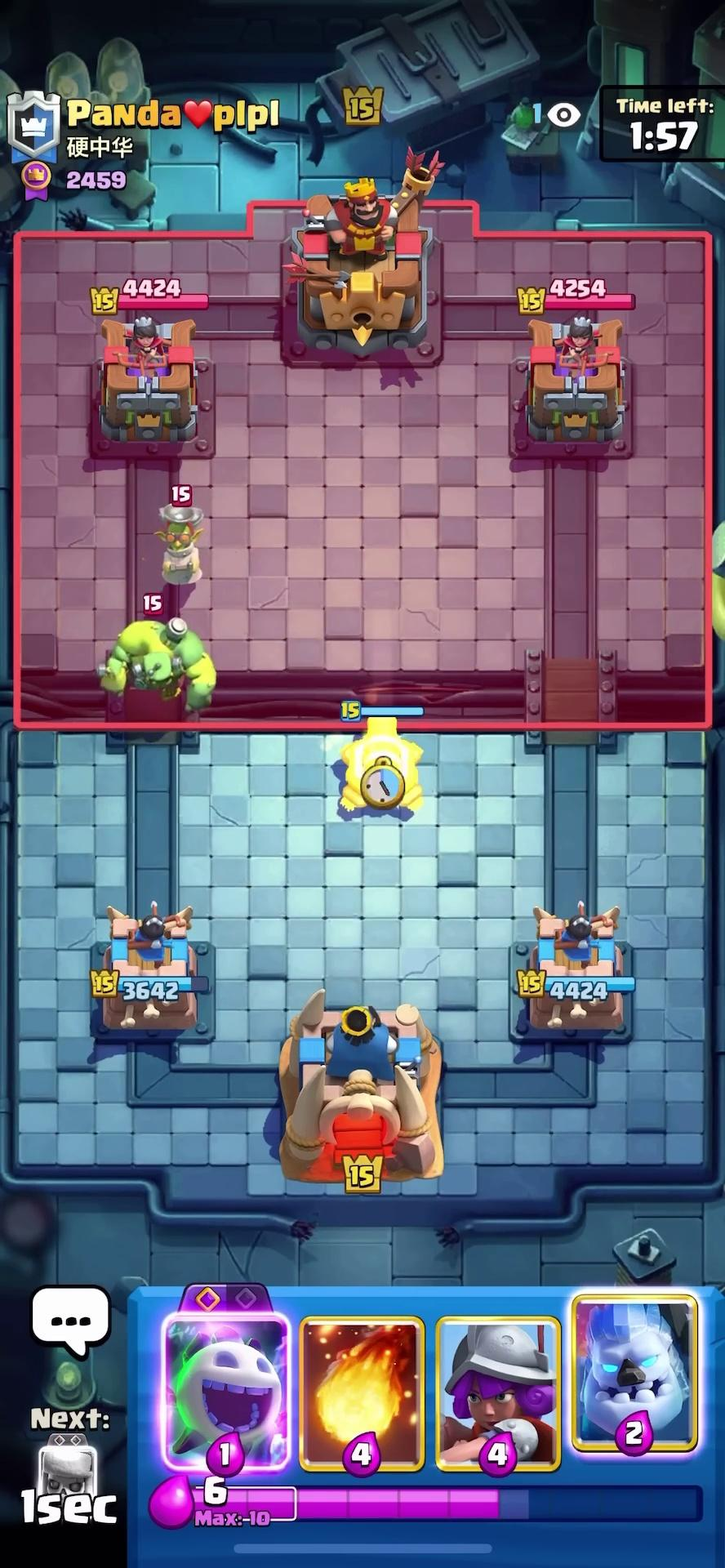cannon: (304, 688, 457, 829)
